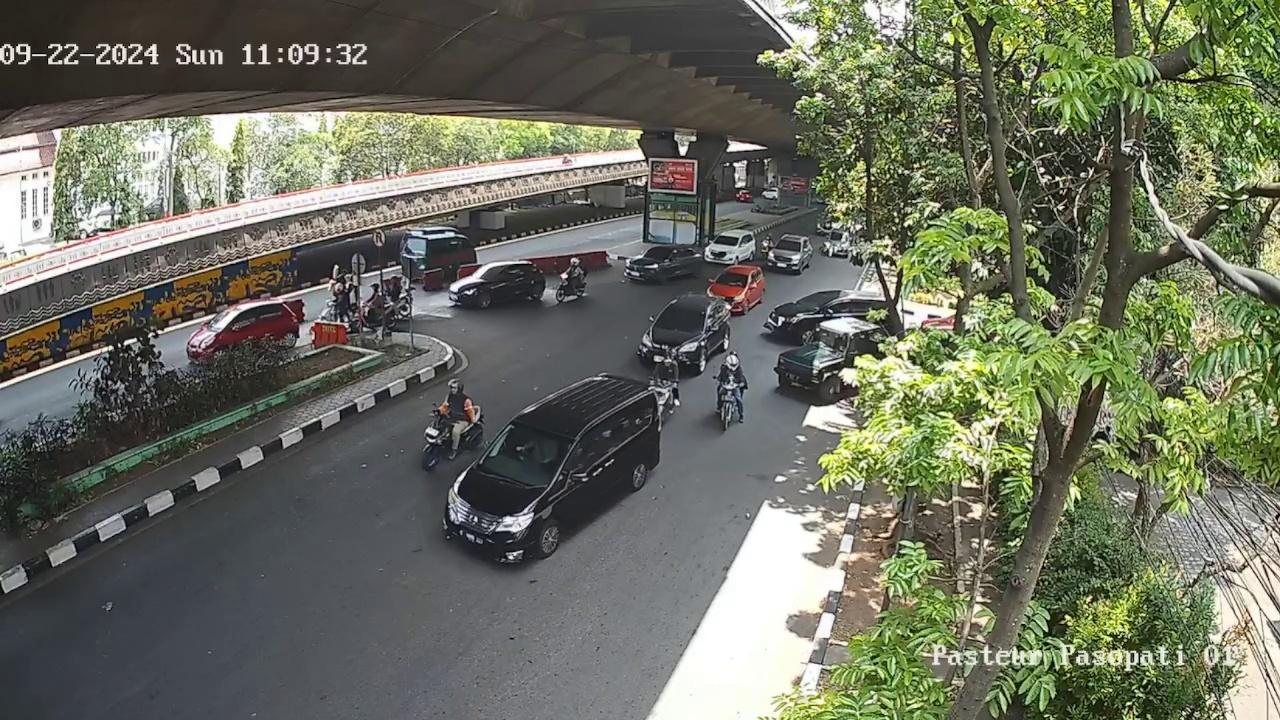pakai: (520, 431, 557, 468)
windshield: (485, 423, 575, 482), (655, 305, 707, 330), (804, 330, 847, 354), (713, 273, 748, 287), (774, 238, 801, 251), (645, 247, 670, 259), (713, 235, 739, 246)
